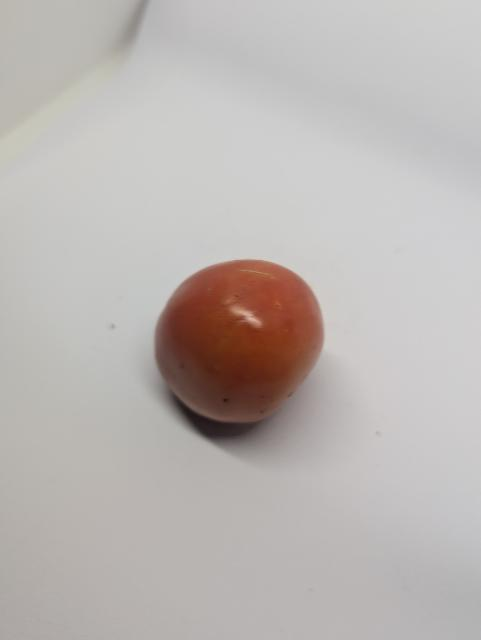red: (144, 248, 335, 437)
